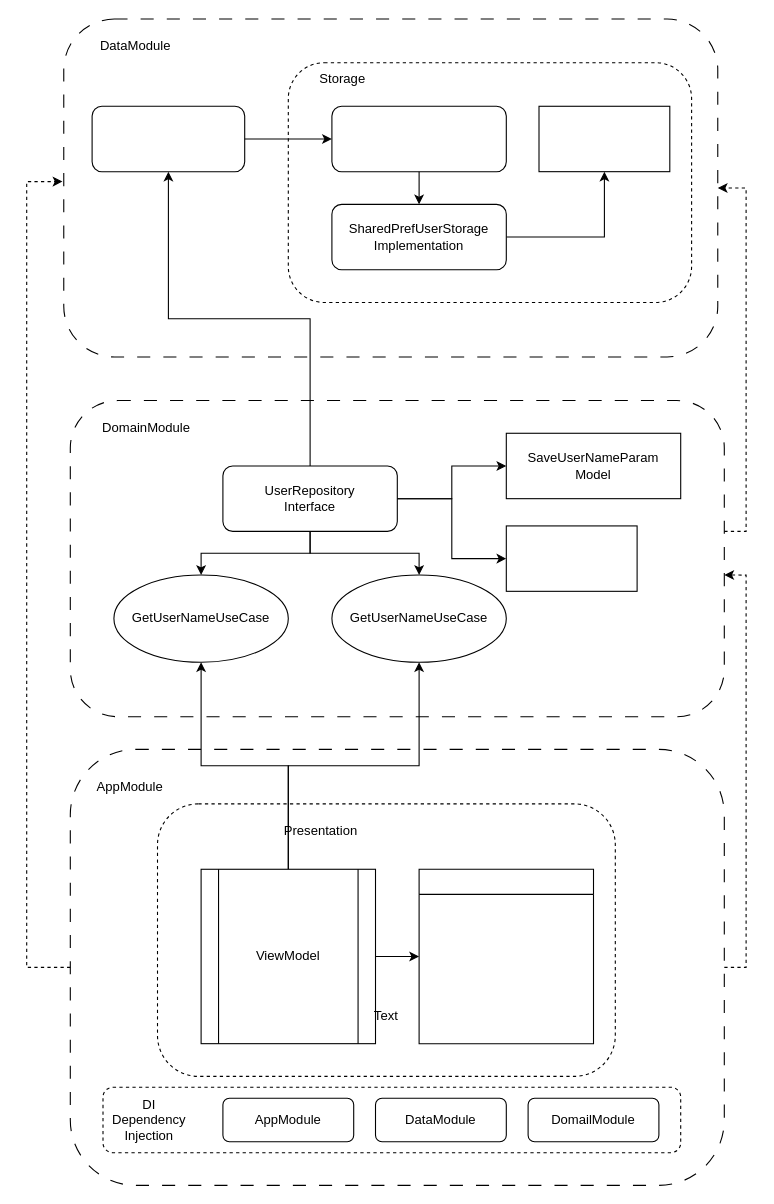
Some shapes in this 774 by 1204 pixel diagram are drawn without their labels. The centre of each missing label's shape, as x and y in pixels:
Activity: the point at 506,956
User Model: the point at 604,138
UserName Model: the point at 571,558
UserRepositoryImpl Implementation: the point at 168,138
UserStorage Interface: the point at 418,138
